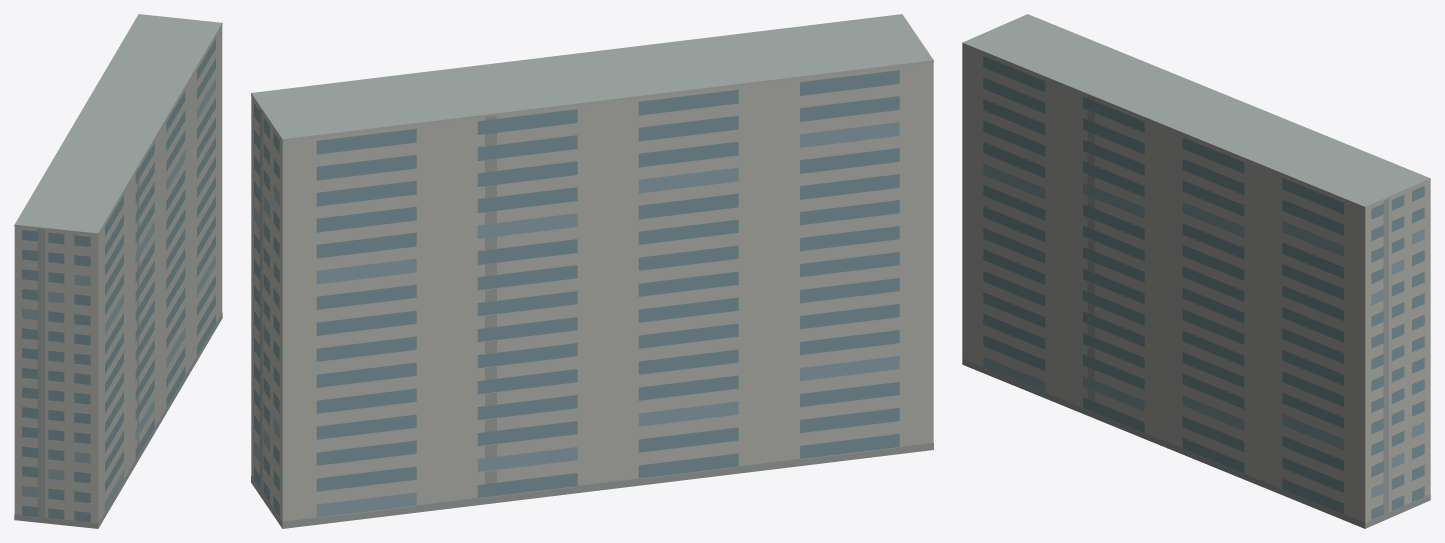
Rendered from residential-247139e7-55f0-4dad-9e89-facf4357a6bf.glb.
3 views of the same model, side by side, from view 1: azimuth 30°, elevation 25°; view 2: azimuth 150°, elevation 25°; view 3: azimuth 270°, elevation 25° (orthographic). The views are drawn at different scales.
Visible parts, largest first — view 1: residential-247139e7-55f0-4dad-9e89-facf4357a6bf.tmp; view 2: residential-247139e7-55f0-4dad-9e89-facf4357a6bf.tmp; view 3: residential-247139e7-55f0-4dad-9e89-facf4357a6bf.tmp.
Part boxes in pixels (bbox=[...]): residential-247139e7-55f0-4dad-9e89-facf4357a6bf.tmp: bbox=[14, 14, 222, 528]; residential-247139e7-55f0-4dad-9e89-facf4357a6bf.tmp: bbox=[251, 14, 933, 528]; residential-247139e7-55f0-4dad-9e89-facf4357a6bf.tmp: bbox=[962, 14, 1430, 528].
Size of the model in its own units: 52.69 by 41 by 54.03.
